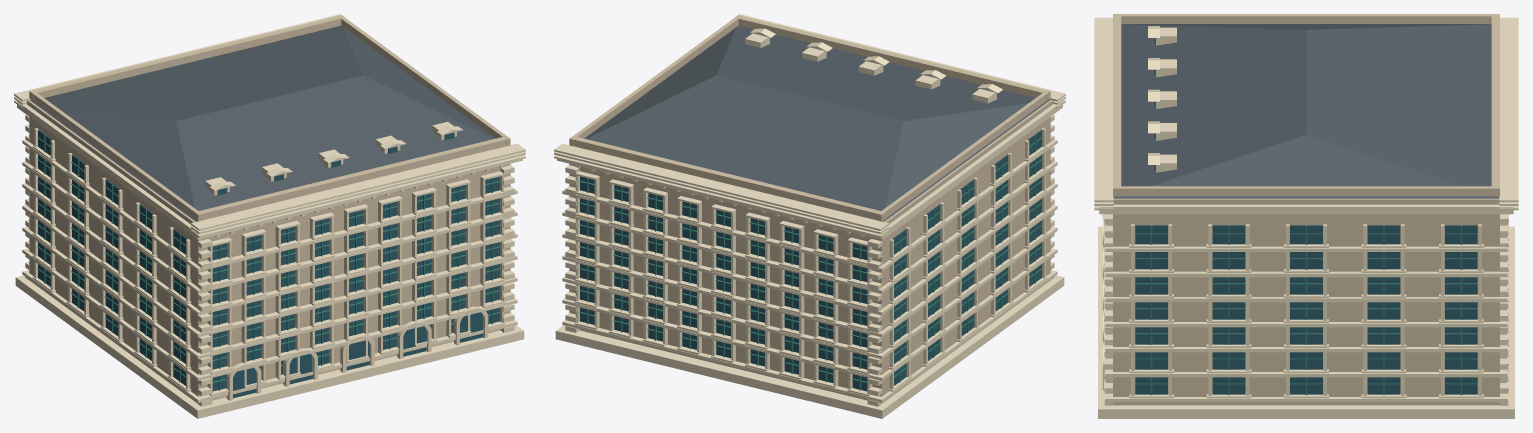
Rendered from asia-building.glb.
3 renders of one model, left to right at view 1: azimuth 30°, elevation 25°; view 2: azimuth 150°, elevation 25°; view 3: azimuth 270°, elevation 25°, orthographic. The views are drawn at different scales.
Visible parts, largest first — view 1: asia-building; view 2: asia-building; view 3: asia-building.
Boxes of the visible parts, left/top/right/bottom form: asia-building: left=14, top=14, right=525, bottom=418; asia-building: left=554, top=14, right=1065, bottom=418; asia-building: left=1094, top=14, right=1518, bottom=418.
Size of the model in its own units: 37.97 by 23.8 by 37.31.
